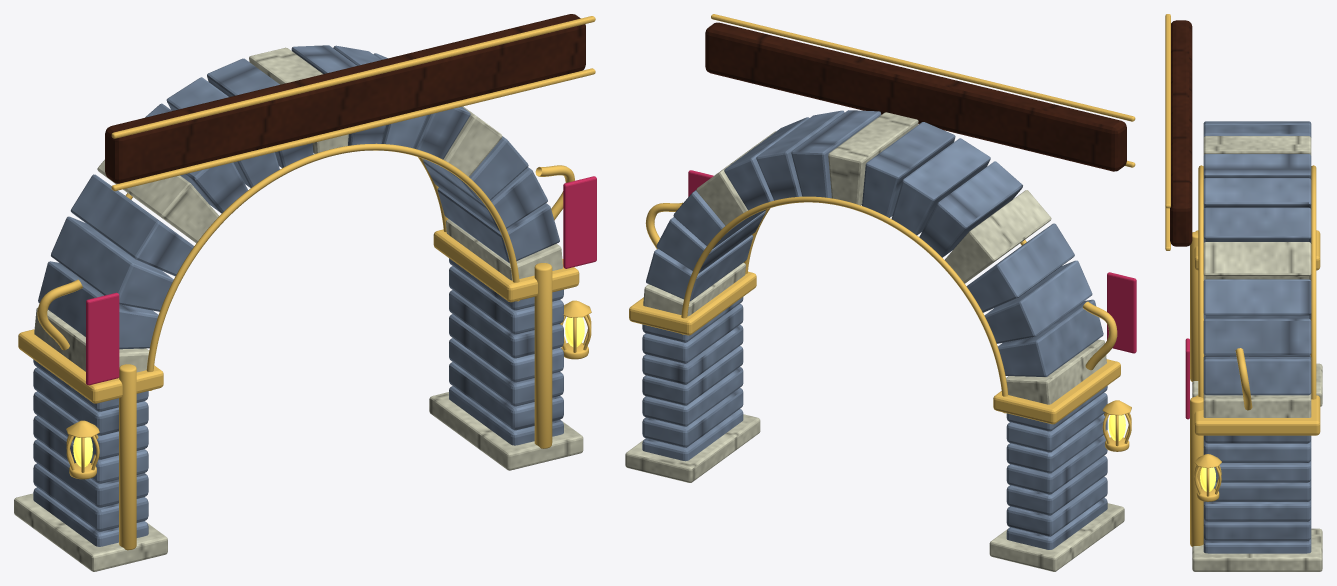
The model's file is portal-grand.glb.
3 renders of one model, left to right at view 1: azimuth 30°, elevation 25°; view 2: azimuth 150°, elevation 25°; view 3: azimuth 270°, elevation 25°, orthographic. The views are drawn at different scales.
Parts seen in each view (by area): view 1: Cut ashlar, Fluted column, Name board, Plinth, Pennant, Amber glass; view 2: Cut ashlar, Name board, Plinth, Fluted column, Pennant; view 3: Cut ashlar, Plinth, Fluted column, Name board, Pennant, Amber glass.
Boxes of the visible parts, box(x1,y1,x2,y2) form: Cut ashlar: box(33, 45, 563, 546); Fluted column: box(18, 16, 595, 550); Name board: box(105, 14, 585, 183); Plinth: box(14, 47, 583, 571); Pennant: box(86, 176, 596, 385); Amber glass: box(73, 317, 584, 466); Cut ashlar: box(642, 110, 1107, 549); Name board: box(705, 22, 1126, 171); Plinth: box(625, 112, 1124, 571); Fluted column: box(629, 14, 1135, 451); Pennant: box(688, 170, 1136, 353); Cut ashlar: box(1203, 121, 1311, 553); Plinth: box(1192, 136, 1322, 571); Fluted column: box(1165, 14, 1320, 546); Name board: box(1170, 20, 1192, 246); Pennant: box(1185, 338, 1189, 419); Amber glass: box(1200, 467, 1215, 491).
Size of the model in its own units: 11.23 by 9 by 3.5.
6 materials, 3 textured.
